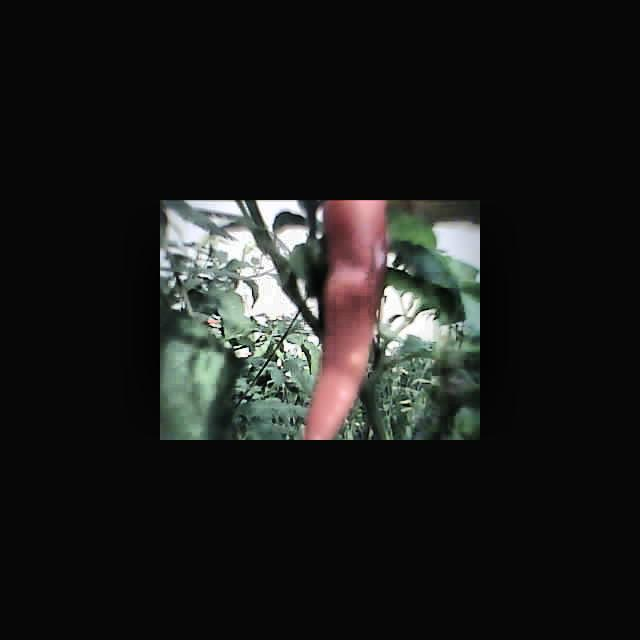Cabai: (313, 200, 378, 434)
